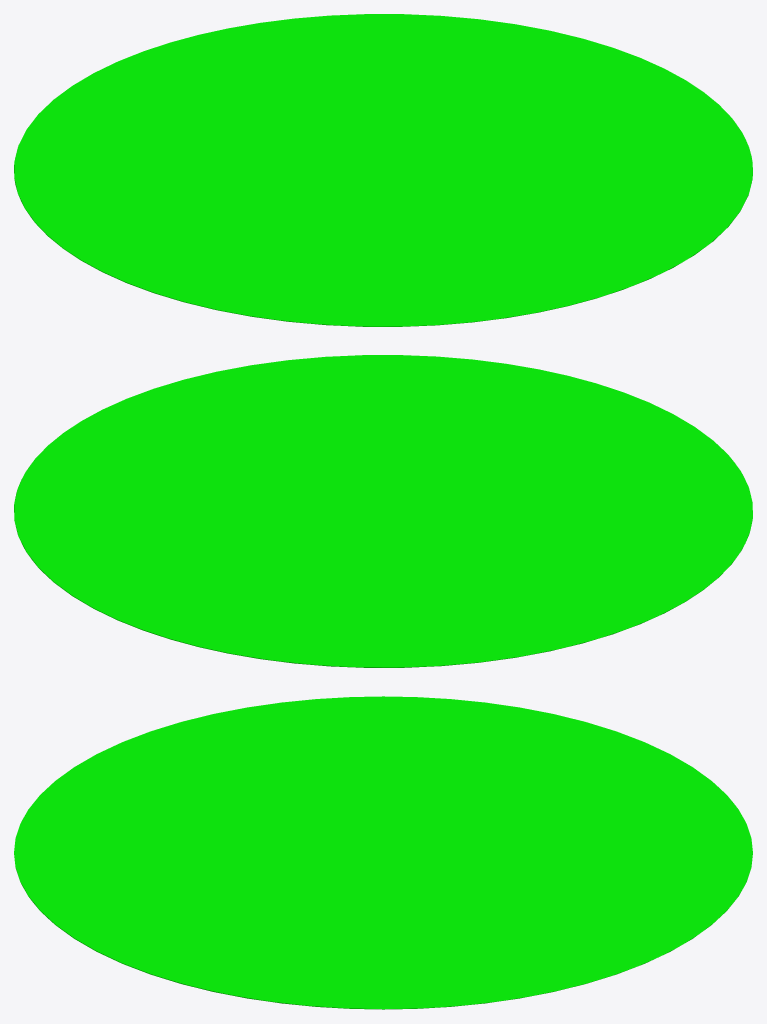
The model's file is green_area.dae.
The picture shows the model from 3 angles, top to bottom: view 1: azimuth 30°, elevation 25°; view 2: azimuth 150°, elevation 25°; view 3: azimuth 270°, elevation 25°; orthographic projection.
Parts seen in each view (by area): view 1: Body1; view 2: Body1; view 3: Body1.
Part boxes in pixels (left/top/right/bottom): Body1: left=14, top=14, right=752, bottom=326; Body1: left=14, top=355, right=752, bottom=667; Body1: left=14, top=696, right=752, bottom=1009.
Size of the model in its own units: 9 by 9 by 0.01.
